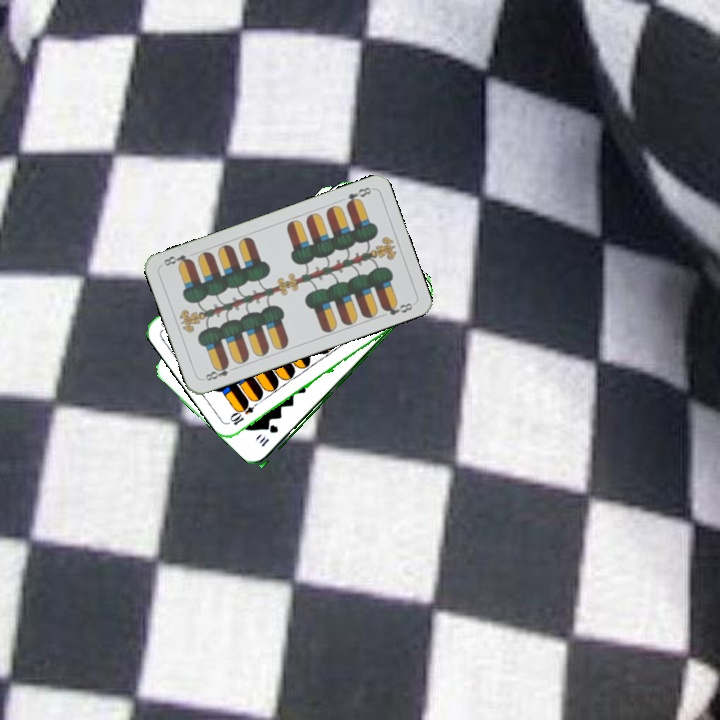E10: (226, 396, 263, 428)
E8: (199, 359, 239, 383), (342, 183, 374, 209)
G10: (255, 421, 281, 449)
